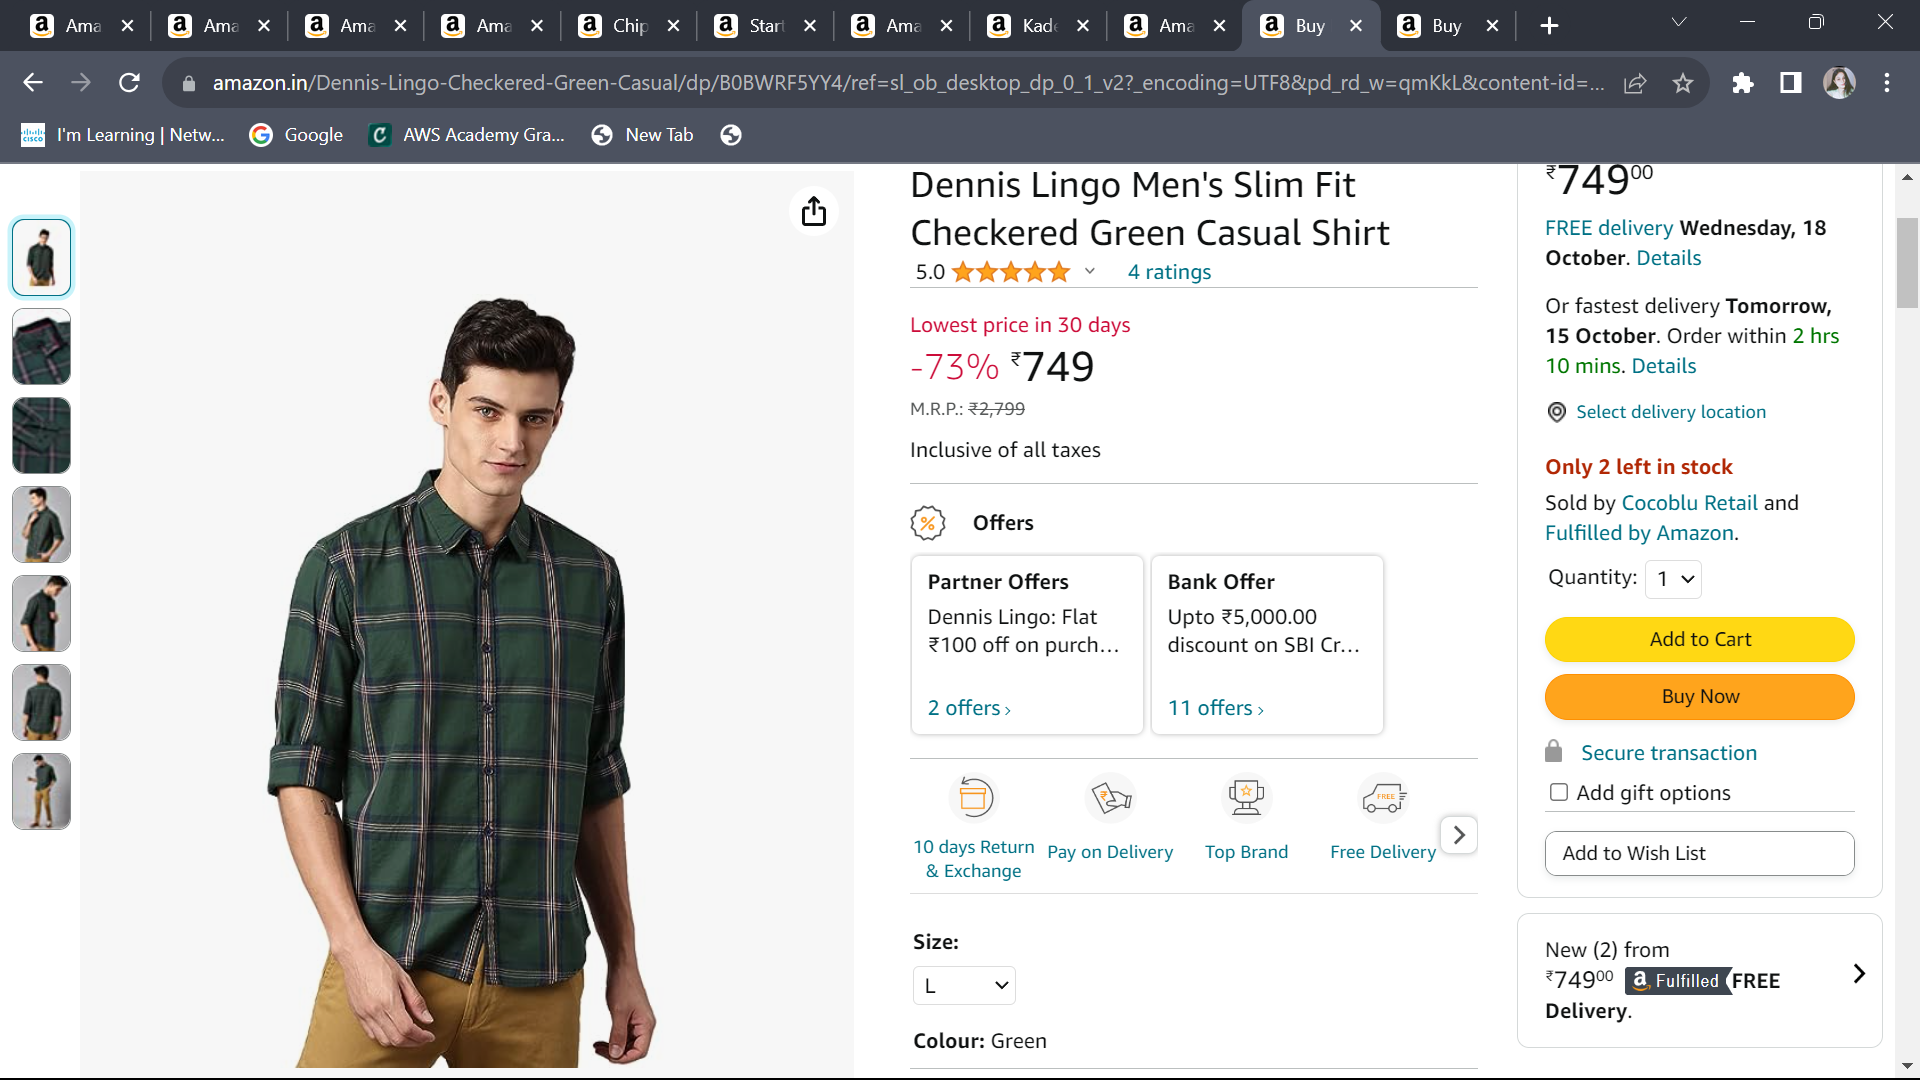Image: (185, 191, 753, 1069)
Paragraph: (872, 496, 1424, 741), (874, 167, 1427, 269), (1540, 218, 1857, 388), (911, 298, 1174, 469), (1547, 609, 1875, 741), (1535, 456, 1818, 564), (1535, 735, 1797, 822), (1532, 388, 1774, 451), (1535, 161, 1729, 212), (902, 931, 1021, 1006), (899, 1021, 1069, 1069), (1535, 570, 1738, 597)
